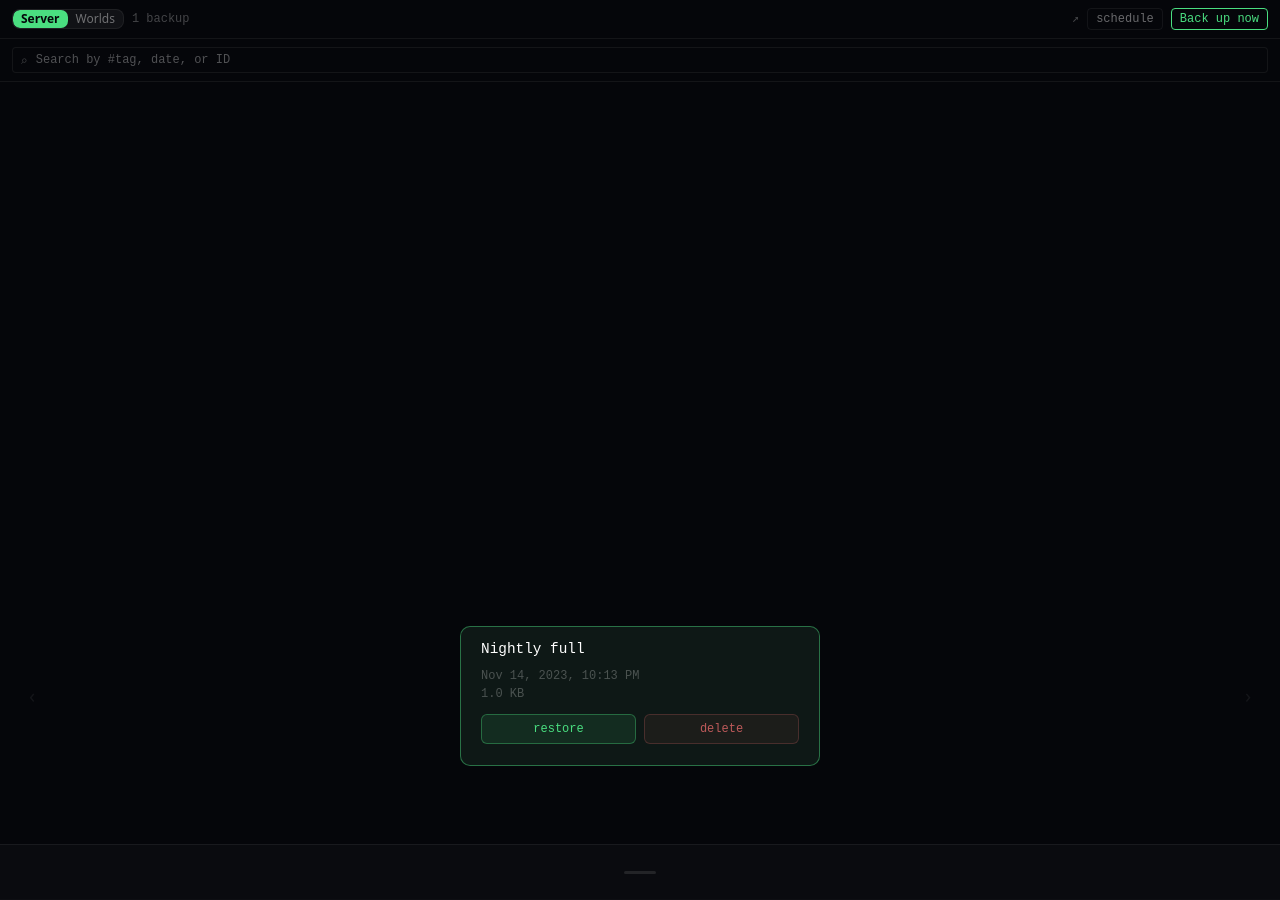
Test: BackupsTile world view › disables Back up now when the server has no worlds
Click the button "Worlds": (95, 19) [68,10,123,28]
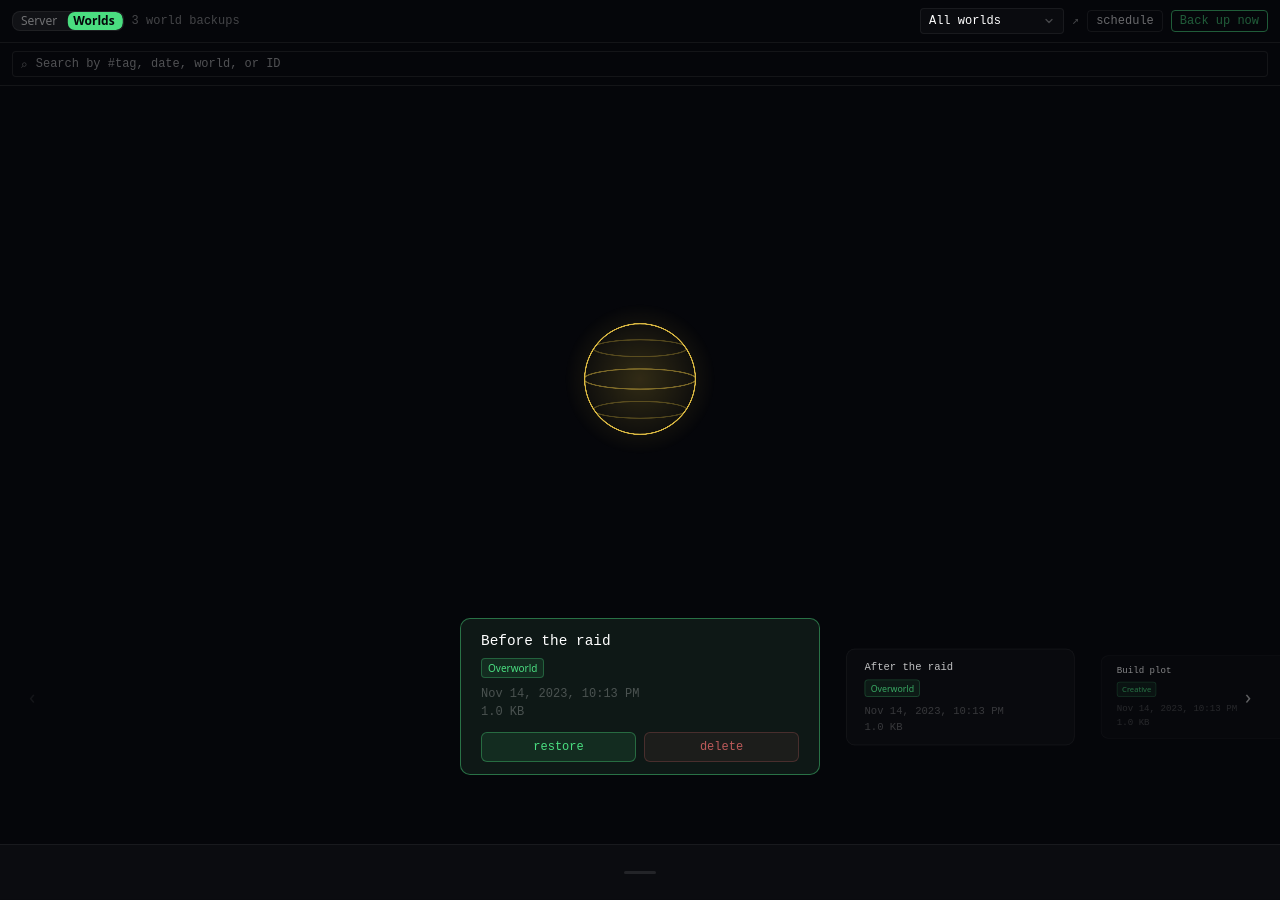
Check: the button "Back up now" is disabled, box [1171,10,1268,32]
